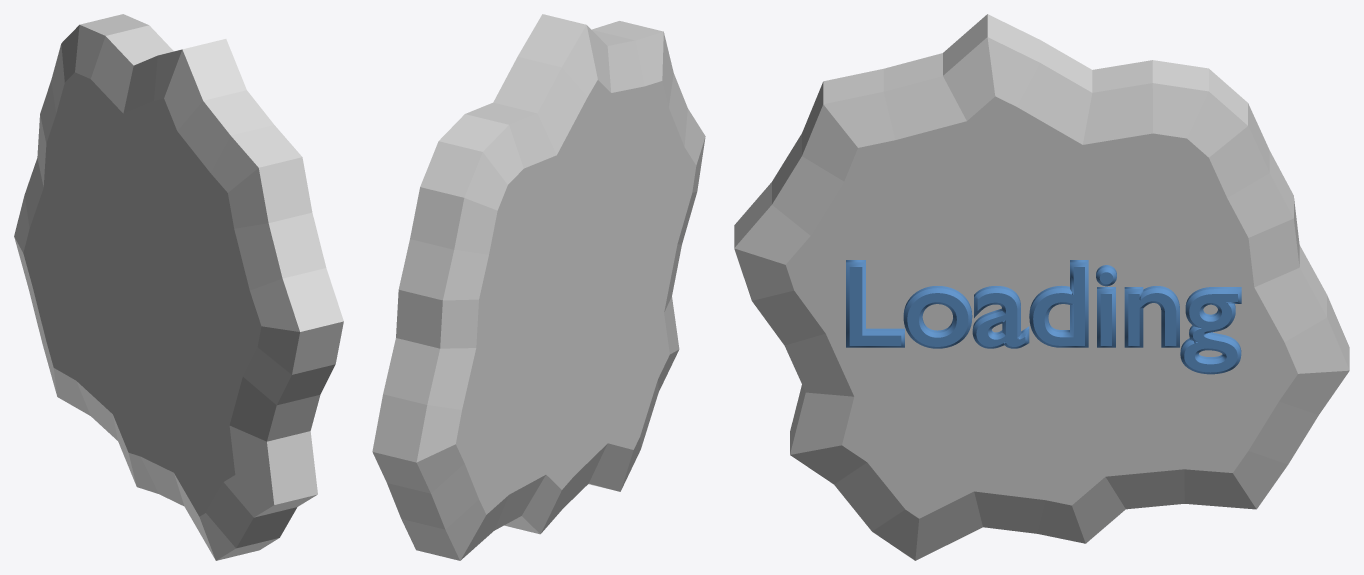
The model's file is MRUILoading.fbx.
The picture shows the model from 3 angles, left to right: view 1: azimuth 30°, elevation 25°; view 2: azimuth 150°, elevation 25°; view 3: azimuth 270°, elevation 25°; orthographic projection. The views are drawn at different scales.
Parts seen in each view (by area): view 1: loadTile; view 2: loadTile; view 3: loadTile, Loading.
Part boxes in pixels (x1,y1,x2,y2): loadTile: (14,14,343,560); loadTile: (372,14,705,560); loadTile: (734,14,1349,560); Loading: (846,260,1241,374).
Bounding box in the file's own units: 53.94 × 311 × 332.
